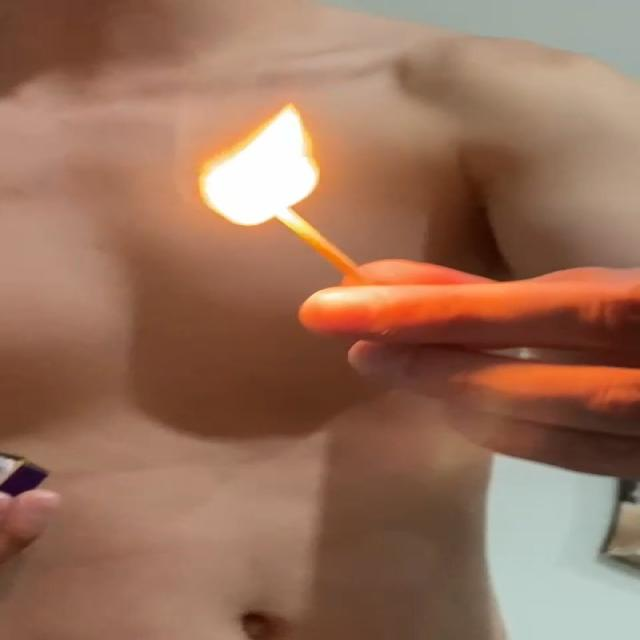fogo-ypXI: (194, 96, 323, 227)
